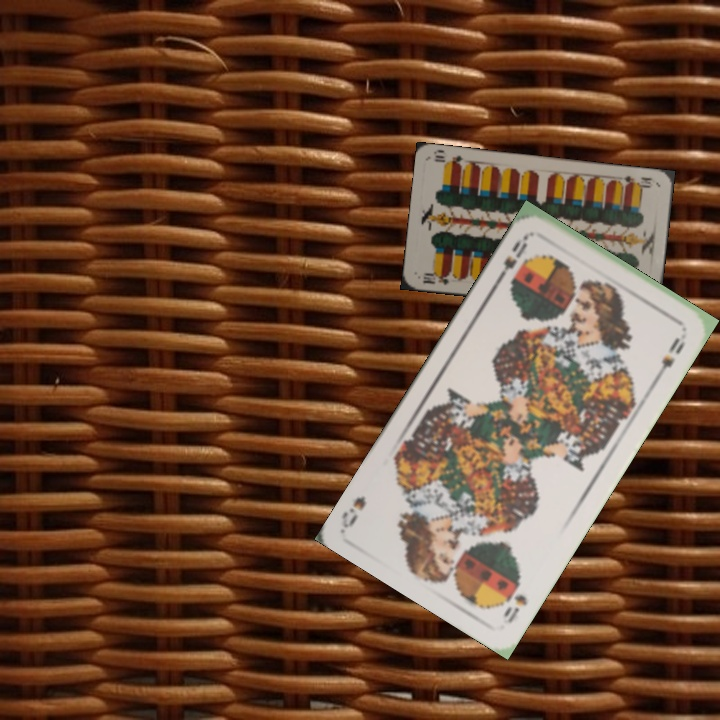E10: (620, 172, 658, 191), (419, 268, 452, 287)
SO: (494, 229, 532, 283), (499, 590, 530, 627)
